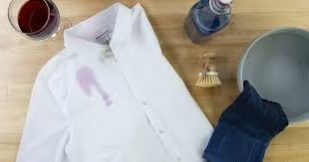wine: (72, 63, 100, 99), (100, 84, 117, 108)
